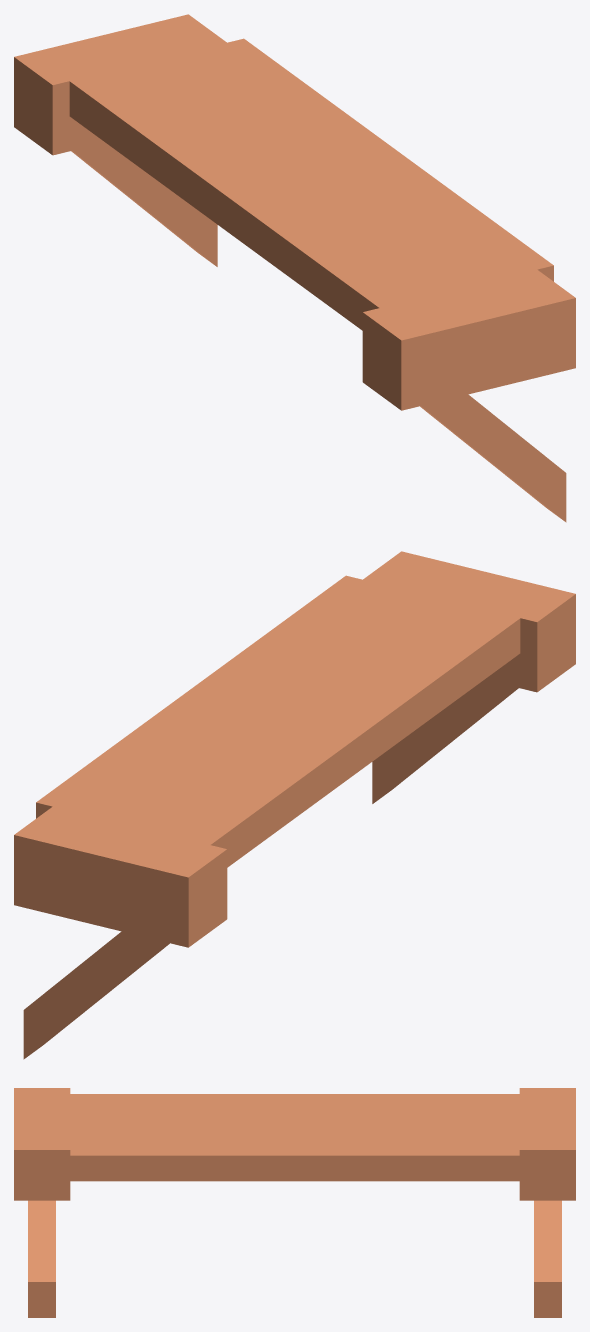
File: overhang.fbx
3 renders of one model, top to bottom at view 1: azimuth 30°, elevation 25°; view 2: azimuth 150°, elevation 25°; view 3: azimuth 270°, elevation 25°, orthographic. The views are drawn at different scales.
Parts seen in each view (by area): view 1: overhang; view 2: overhang; view 3: overhang.
Boxes of the visible parts, left/top/right/bottom form: overhang: left=14, top=14, right=575, bottom=522; overhang: left=14, top=551, right=575, bottom=1059; overhang: left=14, top=1088, right=575, bottom=1317.
Size of the model in its own units: 2.85 by 3.3 by 10.
